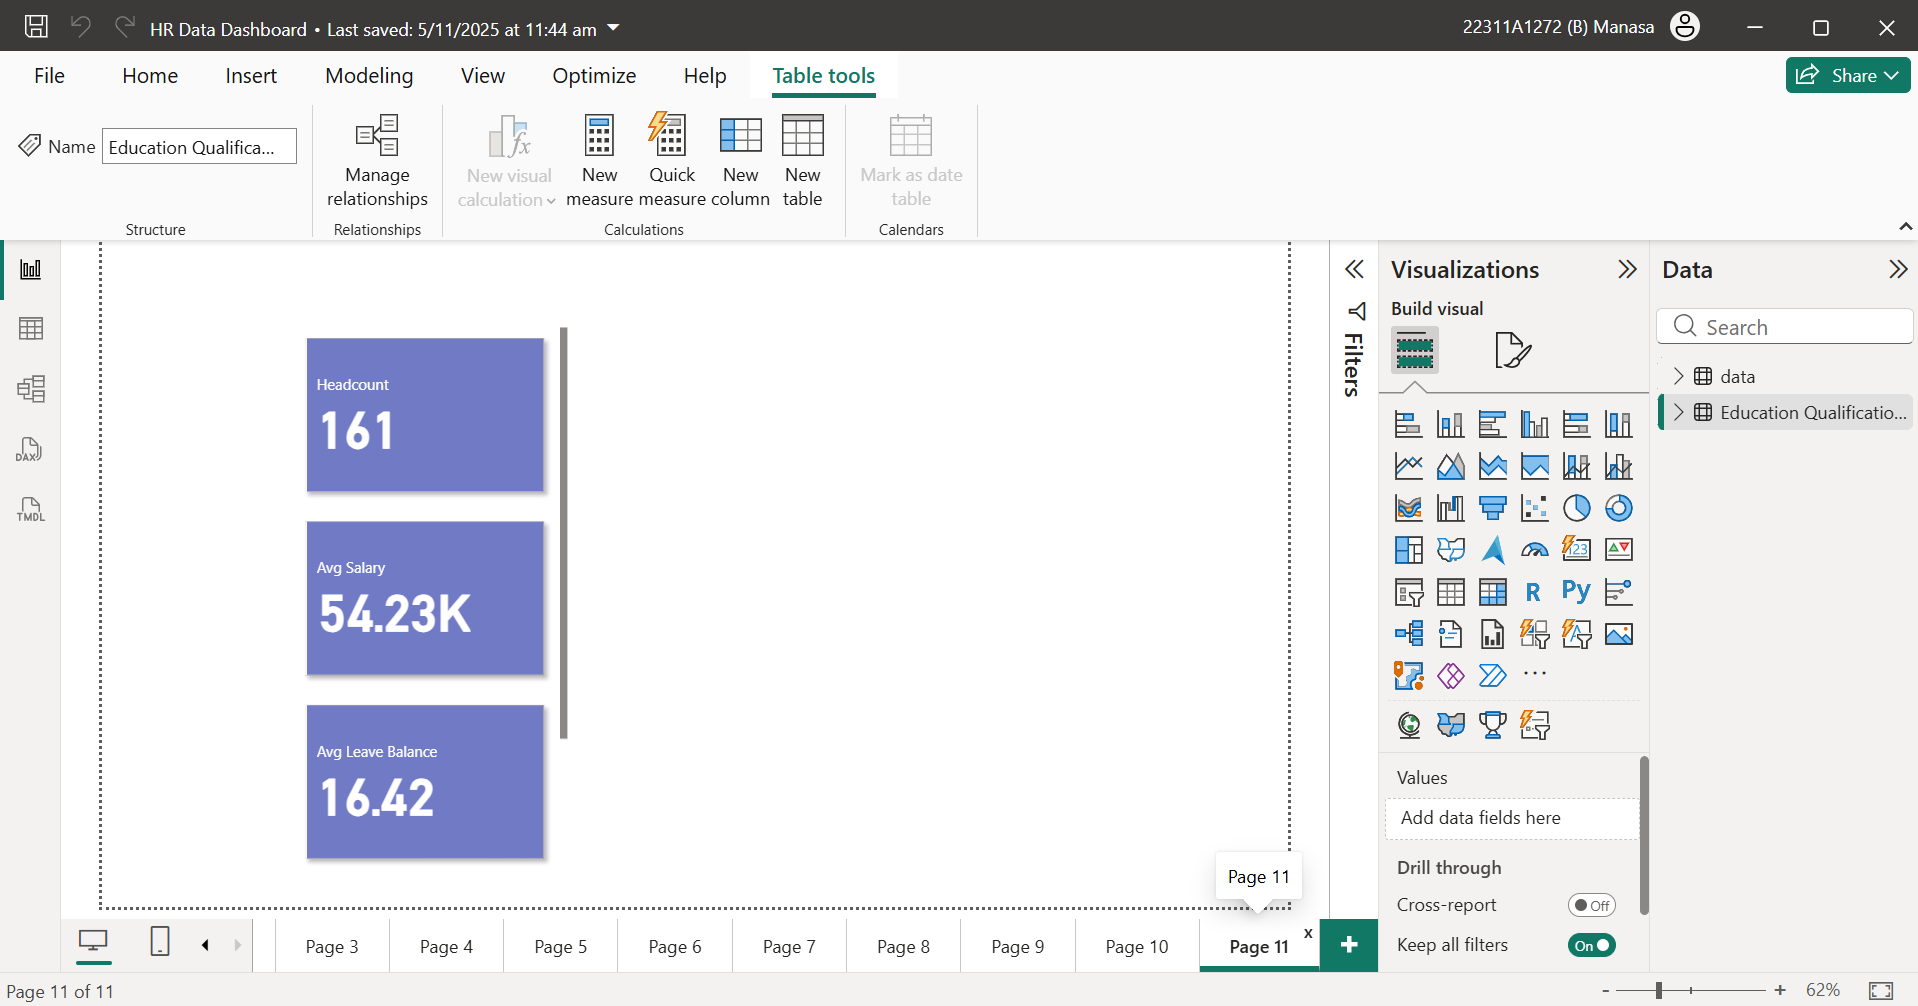

Layout of this report page (visuals, bound fields, positions):
{"tool":"powerbi","page":{"name":"Page 11","canvas":[1280,720],"ordinal":10},"visuals":[{"type":"cardVisual","fields":{"Data":["data.Headcount","data.Avg Salary","data.Avg Leave Balance","data.LBL over 20 days"]},"box":[201.7,88.3,305,601.7],"z":0}]}

Visuals, with their boxes on the page's 1280x720 design canvas (x1, y1, x2, y2). These are canvas units, not pixel positions in the 1918x1006 screenshot, which may show the page scaled, cropped or inside an application window:
cardVisual - data.Headcount x data.Avg Salary: 202/88/507/690
